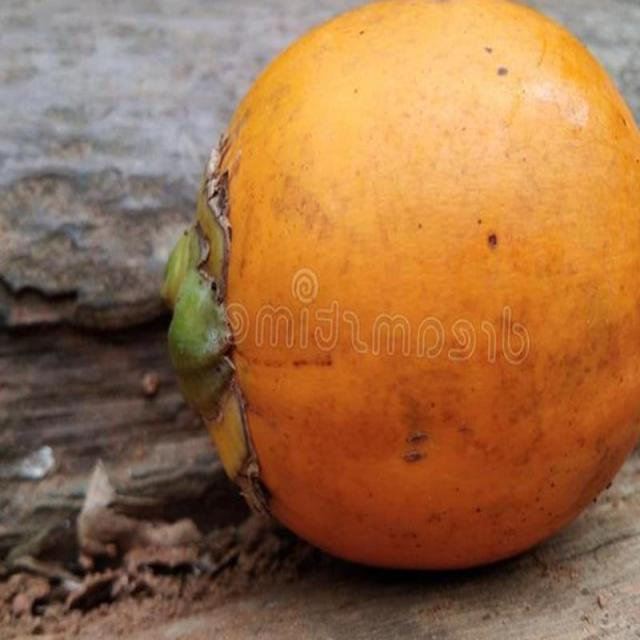good: (161, 0, 639, 575)
